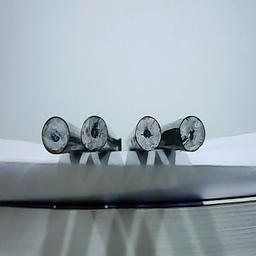pen: (41, 116, 71, 155), (177, 114, 207, 153), (134, 114, 164, 153), (79, 113, 109, 152)
